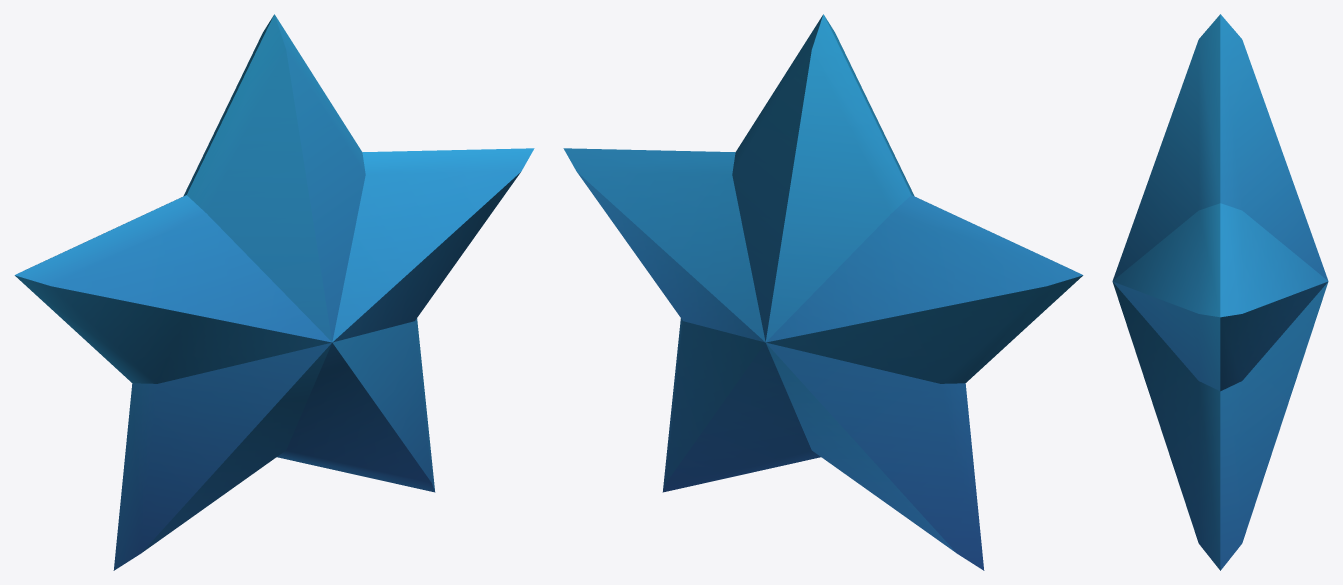
File: star-blue.glb
The picture shows the model from 3 angles, left to right: view 1: azimuth 30°, elevation 25°; view 2: azimuth 150°, elevation 25°; view 3: azimuth 270°, elevation 25°; orthographic projection. The views are drawn at different scales.
Parts seen in each view (by area): view 1: star_blue; view 2: star_blue; view 3: star_blue.
Boxes of the visible parts, x1,y1,x2,y2 form: star_blue: [14, 14, 534, 570]; star_blue: [563, 14, 1083, 570]; star_blue: [1112, 14, 1328, 570].
Size of the model in its own units: 1.17 by 1.11 by 0.4489.
1 material, 1 textured.
